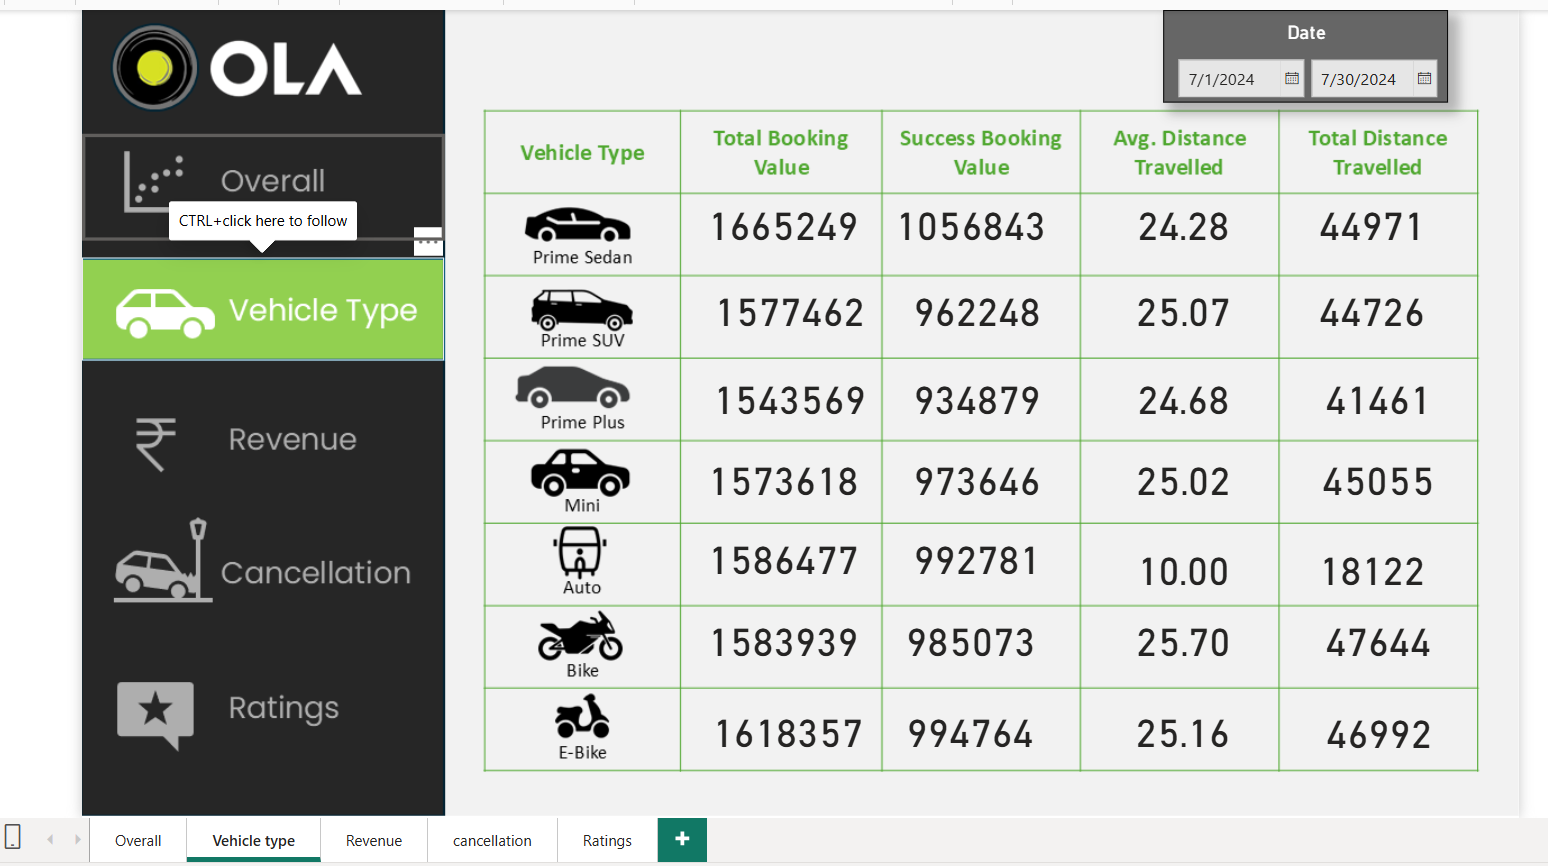

What the dashboard file says about the page in this screenshot:
{"tool":"powerbi","page":{"name":"Vehicle type","canvas":[1280,720],"ordinal":1},"visuals":[{"type":"actionButton","box":[0,220.8,323.3,91.7],"z":0},{"type":"actionButton","box":[0,109.8,323.3,95.3],"z":1000},{"type":"actionButton","box":[0,337.8,323.3,95.3],"z":2000},{"type":"actionButton","box":[0,456,323.3,95.3],"z":3000},{"type":"actionButton","box":[0,571.9,323.3,95.3],"z":4000},{"type":"card","fields":{"Values":["Sum(Bookings-20000-Rows xlsx - July.Booking_Value)"]},"box":[540.7,157.8,167.4,63.1],"z":5000},{"type":"card","fields":{"Values":["Sum(Bookings-20000-Rows xlsx - July.Booking_Value)"]},"box":[546.1,234.6,167.4,63.1],"z":6000},{"type":"card","fields":{"Values":["Sum(Bookings-20000-Rows xlsx - July.Booking_Value)"]},"box":[546.1,312.9,167.4,63.1],"z":7000},{"type":"card","fields":{"Values":["Sum(Bookings-20000-Rows xlsx - July.Booking_Value)"]},"box":[540.7,385.6,167.4,63.1],"z":8000},{"type":"card","fields":{"Values":["Sum(Bookings-20000-Rows xlsx - July.Booking_Value)"]},"box":[540.7,455.6,167.4,63.1],"z":9000},{"type":"card","fields":{"Values":["Sum(Bookings-20000-Rows xlsx - July.Booking_Value)"]},"box":[540.7,528.3,167.4,63.1],"z":10000},{"type":"card","fields":{"Values":["Sum(Bookings-20000-Rows xlsx - July.Booking_Value)"]},"box":[539.3,602.4,179.8,78.2],"z":11000},{"type":"card","fields":{"Values":["Sum(Bookings-20000-Rows xlsx - July.Booking_Value)"]},"box":[708.1,157.8,167.4,63.1],"z":12000},{"type":"card","fields":{"Values":["Sum(Bookings-20000-Rows xlsx - July.Booking_Value)"]},"box":[713.6,234.6,167.4,63.1],"z":13000},{"type":"card","fields":{"Values":["Sum(Bookings-20000-Rows xlsx - July.Booking_Value)"]},"box":[713.6,312.9,167.4,63.1],"z":14000},{"type":"card","fields":{"Values":["Sum(Bookings-20000-Rows xlsx - July.Booking_Value)"]},"box":[713.6,385.6,167.4,63.1],"z":15000},{"type":"card","fields":{"Values":["Sum(Bookings-20000-Rows xlsx - July.Booking_Value)"]},"box":[713.6,455.6,167.4,63.1],"z":16000},{"type":"card","fields":{"Values":["Sum(Bookings-20000-Rows xlsx - July.Booking_Value)"]},"box":[708.1,528.3,167.4,63.1],"z":17000},{"type":"card","fields":{"Values":["Sum(Bookings-20000-Rows xlsx - July.Booking_Value)"]},"box":[701.2,602.4,179.8,78.2],"z":18000},{"type":"card","fields":{"Values":["Avg(Bookings-20000-Rows xlsx - July.Ride_Distance)"]},"box":[897.4,157.8,167.4,63.1],"z":19000},{"type":"card","fields":{"Values":["Avg(Bookings-20000-Rows xlsx - July.Ride_Distance)"]},"box":[897.4,234.6,167.4,63.1],"z":20000},{"type":"card","fields":{"Values":["Avg(Bookings-20000-Rows xlsx - July.Ride_Distance)"]},"box":[897.4,312.9,167.4,63.1],"z":21000},{"type":"card","fields":{"Values":["Avg(Bookings-20000-Rows xlsx - July.Ride_Distance)"]},"box":[897.4,385.6,167.4,63.1],"z":22000},{"type":"card","fields":{"Values":["Avg(Bookings-20000-Rows xlsx - July.Ride_Distance)"]},"box":[897.4,465.2,167.4,63.1],"z":23000},{"type":"card","fields":{"Values":["Avg(Bookings-20000-Rows xlsx - July.Ride_Distance)"]},"box":[897.4,528.3,167.4,63.1],"z":24000},{"type":"card","fields":{"Values":["Avg(Bookings-20000-Rows xlsx - July.Ride_Distance)"]},"box":[890.6,602.4,179.8,78.2],"z":25000},{"type":"card","fields":{"Values":["Sum(Bookings-20000-Rows xlsx - July.Ride_Distance)"]},"box":[1064.8,157.8,167.4,63.1],"z":26000},{"type":"card","fields":{"Values":["Sum(Bookings-20000-Rows xlsx - July.Ride_Distance)"]},"box":[1064.8,234.6,167.4,63.1],"z":27000},{"type":"card","fields":{"Values":["Sum(Bookings-20000-Rows xlsx - July.Ride_Distance)"]},"box":[1070.3,312.9,167.4,63.1],"z":28000},{"type":"card","fields":{"Values":["Sum(Bookings-20000-Rows xlsx - July.Ride_Distance)"]},"box":[1070.3,385.6,167.4,63.1],"z":29000},{"type":"card","fields":{"Values":["Sum(Bookings-20000-Rows xlsx - July.Ride_Distance)"]},"box":[1064.8,465.2,167.4,63.1],"z":30000},{"type":"card","fields":{"Values":["Sum(Bookings-20000-Rows xlsx - July.Ride_Distance)"]},"box":[1070.3,528.3,167.4,63.1],"z":31000},{"type":"card","fields":{"Values":["Sum(Bookings-20000-Rows xlsx - July.Ride_Distance)"]},"box":[1064.8,603.8,179.8,78.2],"z":32000},{"type":"slicer","title":"Date","fields":{"Values":["Bookings-20000-Rows xlsx - July.Date"]},"box":[963.3,0,253.9,82.3],"z":33000}]}

Visuals, with their boxes on the page's 1280x720 design canvas (x1, y1, x2, y2). These are canvas units, not pixel positions in the 1548x866 screenshot, which may show the page scaled, cropped or inside an application window:
actionButton: {"x1": 0, "y1": 221, "x2": 323, "y2": 312}
actionButton: {"x1": 0, "y1": 110, "x2": 323, "y2": 205}
actionButton: {"x1": 0, "y1": 338, "x2": 323, "y2": 433}
actionButton: {"x1": 0, "y1": 456, "x2": 323, "y2": 551}
actionButton: {"x1": 0, "y1": 572, "x2": 323, "y2": 667}
card - Sum(Bookings-20000-Rows xlsx - July.Booking_Value): {"x1": 541, "y1": 158, "x2": 708, "y2": 221}
card - Sum(Bookings-20000-Rows xlsx - July.Booking_Value): {"x1": 546, "y1": 235, "x2": 714, "y2": 298}
card - Sum(Bookings-20000-Rows xlsx - July.Booking_Value): {"x1": 546, "y1": 313, "x2": 714, "y2": 376}
card - Sum(Bookings-20000-Rows xlsx - July.Booking_Value): {"x1": 541, "y1": 386, "x2": 708, "y2": 449}
card - Sum(Bookings-20000-Rows xlsx - July.Booking_Value): {"x1": 541, "y1": 456, "x2": 708, "y2": 519}
card - Sum(Bookings-20000-Rows xlsx - July.Booking_Value): {"x1": 541, "y1": 528, "x2": 708, "y2": 591}
card - Sum(Bookings-20000-Rows xlsx - July.Booking_Value): {"x1": 539, "y1": 602, "x2": 719, "y2": 681}
card - Sum(Bookings-20000-Rows xlsx - July.Booking_Value): {"x1": 708, "y1": 158, "x2": 876, "y2": 221}
card - Sum(Bookings-20000-Rows xlsx - July.Booking_Value): {"x1": 714, "y1": 235, "x2": 881, "y2": 298}
card - Sum(Bookings-20000-Rows xlsx - July.Booking_Value): {"x1": 714, "y1": 313, "x2": 881, "y2": 376}
card - Sum(Bookings-20000-Rows xlsx - July.Booking_Value): {"x1": 714, "y1": 386, "x2": 881, "y2": 449}
card - Sum(Bookings-20000-Rows xlsx - July.Booking_Value): {"x1": 714, "y1": 456, "x2": 881, "y2": 519}
card - Sum(Bookings-20000-Rows xlsx - July.Booking_Value): {"x1": 708, "y1": 528, "x2": 876, "y2": 591}
card - Sum(Bookings-20000-Rows xlsx - July.Booking_Value): {"x1": 701, "y1": 602, "x2": 881, "y2": 681}
card - Avg(Bookings-20000-Rows xlsx - July.Ride_Distance): {"x1": 897, "y1": 158, "x2": 1065, "y2": 221}
card - Avg(Bookings-20000-Rows xlsx - July.Ride_Distance): {"x1": 897, "y1": 235, "x2": 1065, "y2": 298}
card - Avg(Bookings-20000-Rows xlsx - July.Ride_Distance): {"x1": 897, "y1": 313, "x2": 1065, "y2": 376}
card - Avg(Bookings-20000-Rows xlsx - July.Ride_Distance): {"x1": 897, "y1": 386, "x2": 1065, "y2": 449}
card - Avg(Bookings-20000-Rows xlsx - July.Ride_Distance): {"x1": 897, "y1": 465, "x2": 1065, "y2": 528}
card - Avg(Bookings-20000-Rows xlsx - July.Ride_Distance): {"x1": 897, "y1": 528, "x2": 1065, "y2": 591}
card - Avg(Bookings-20000-Rows xlsx - July.Ride_Distance): {"x1": 891, "y1": 602, "x2": 1070, "y2": 681}
card - Sum(Bookings-20000-Rows xlsx - July.Ride_Distance): {"x1": 1065, "y1": 158, "x2": 1232, "y2": 221}
card - Sum(Bookings-20000-Rows xlsx - July.Ride_Distance): {"x1": 1065, "y1": 235, "x2": 1232, "y2": 298}
card - Sum(Bookings-20000-Rows xlsx - July.Ride_Distance): {"x1": 1070, "y1": 313, "x2": 1238, "y2": 376}
card - Sum(Bookings-20000-Rows xlsx - July.Ride_Distance): {"x1": 1070, "y1": 386, "x2": 1238, "y2": 449}
card - Sum(Bookings-20000-Rows xlsx - July.Ride_Distance): {"x1": 1065, "y1": 465, "x2": 1232, "y2": 528}
card - Sum(Bookings-20000-Rows xlsx - July.Ride_Distance): {"x1": 1070, "y1": 528, "x2": 1238, "y2": 591}
card - Sum(Bookings-20000-Rows xlsx - July.Ride_Distance): {"x1": 1065, "y1": 604, "x2": 1245, "y2": 682}
"Date" slicer: {"x1": 963, "y1": 0, "x2": 1217, "y2": 82}
